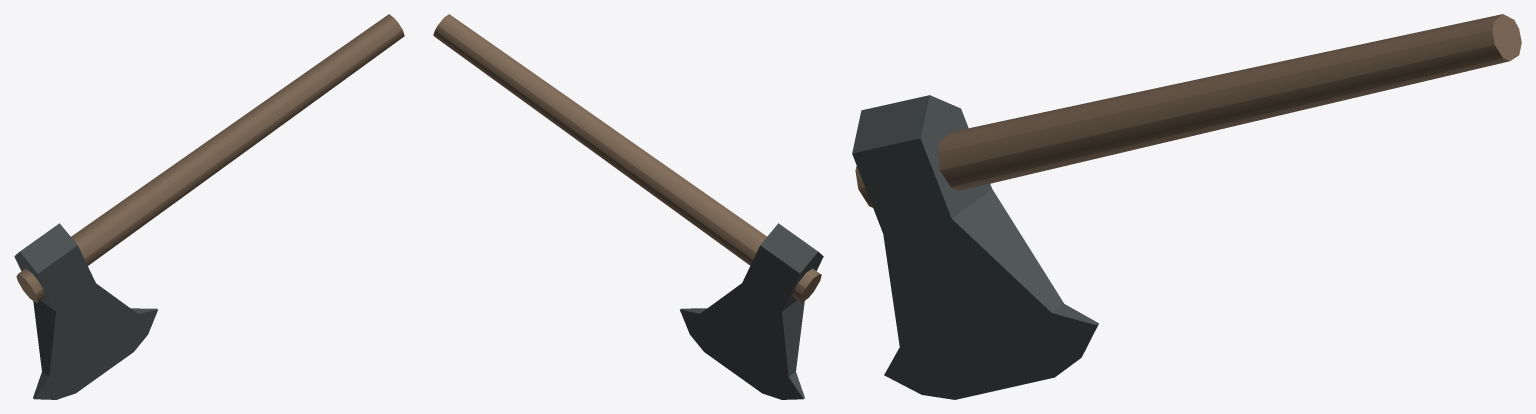
Rendered from Axe.glb.
3 views of the same model, side by side, from view 1: azimuth 30°, elevation 25°; view 2: azimuth 150°, elevation 25°; view 3: azimuth 330°, elevation 25° (orthographic). The views are drawn at different scales.
Parts seen in each view (by area): view 1: Axe; view 2: Axe; view 3: Axe.
Boxes of the visible parts, x1,y1,x2,y2 form: Axe: (14, 14, 404, 399); Axe: (433, 14, 823, 399); Axe: (852, 14, 1521, 399).
Size of the model in its own units: 0.7574 by 0.5731 by 0.0816.
